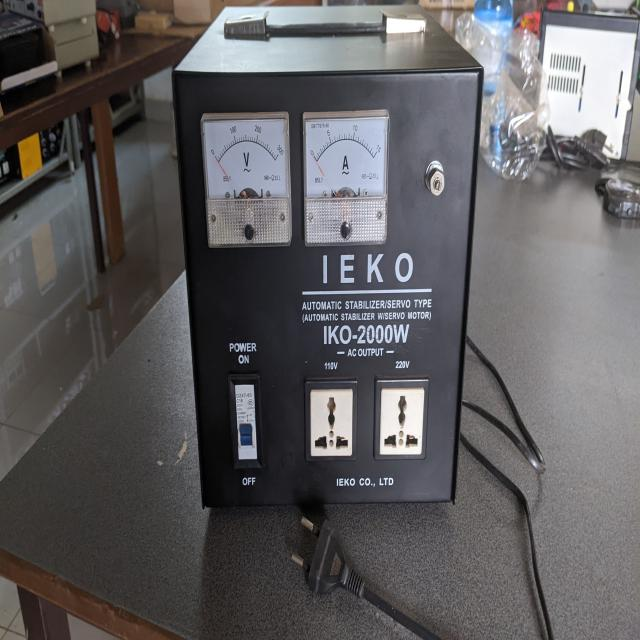AC POWER Stabilizer: (172, 8, 488, 522)
